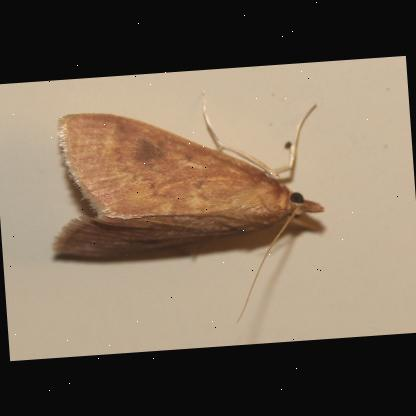Asian Corn Borer Moth: (40, 79, 335, 338)
